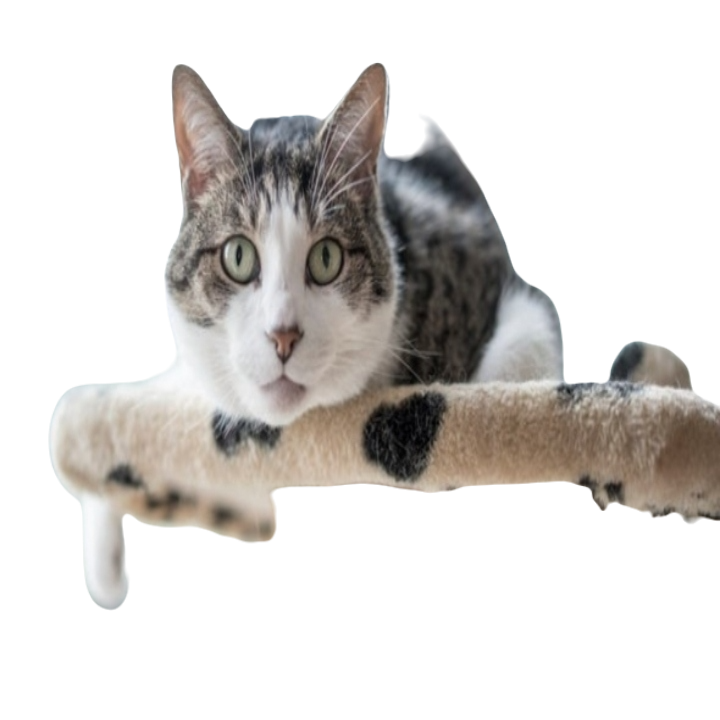Cat: (44, 51, 719, 622)
